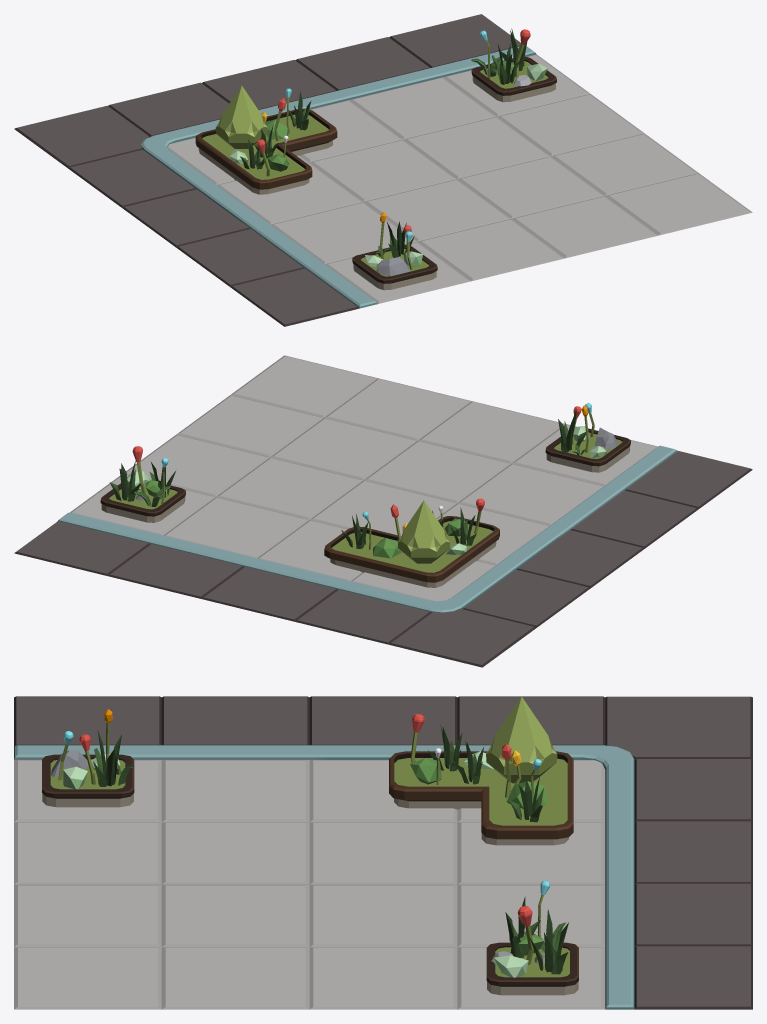
Rendered from OpenCorner_D.glb.
3 views of the same model, one above another, from view 1: azimuth 30°, elevation 25°; view 2: azimuth 150°, elevation 25°; view 3: azimuth 270°, elevation 25° (orthographic). The views are drawn at different scales.
Parts seen in each view (by area): view 1: OpenCorner_D, Cube.294, Cone.140, Cube.290, Cube.291; view 2: OpenCorner_D, Cube.294, Cone.140, Cube.291, Cube.290, Grass_03.664; view 3: OpenCorner_D, Cube.294, Cone.140, Cube.291, Cube.290, Grass_03.664, Grass_03.663, Grass_03.669, Tree_03.1549, Grass_03.668, Grass_03.665, Tree_03.1555 (+3 smaller).
Boxes of the visible parts, <box> form: OpenCorner_D: <box>14,14,752,326</box>; Cube.294: <box>195,108,337,194</box>; Cone.140: <box>215,85,267,148</box>; Cube.290: <box>352,244,437,290</box>; Cube.291: <box>471,56,556,102</box>; OpenCorner_D: <box>14,355,752,667</box>; Cube.294: <box>324,516,499,587</box>; Cone.140: <box>398,500,449,563</box>; Cube.291: <box>100,480,185,522</box>; Cube.290: <box>545,428,630,472</box>; Grass_03.664: <box>109,460,140,501</box>; OpenCorner_D: <box>14,696,752,1009</box>; Cube.294: <box>389,751,573,845</box>; Cone.140: <box>486,696,557,783</box>; Cube.291: <box>486,942,578,995</box>; Cube.290: <box>42,754,134,807</box>; Grass_03.664: <box>529,909,568,974</box>; Grass_03.663: <box>93,730,133,786</box>; Grass_03.669: <box>509,776,543,822</box>; Tree_03.1549: <box>494,955,528,977</box>; Grass_03.668: <box>428,725,462,771</box>; Grass_03.665: <box>505,896,540,957</box>; Tree_03.1555: <box>410,758,441,784</box>.
Size of what is drawn, in the model's own units: 16 by 2.36 by 16.
Materials: 1 (1 with a texture image).
